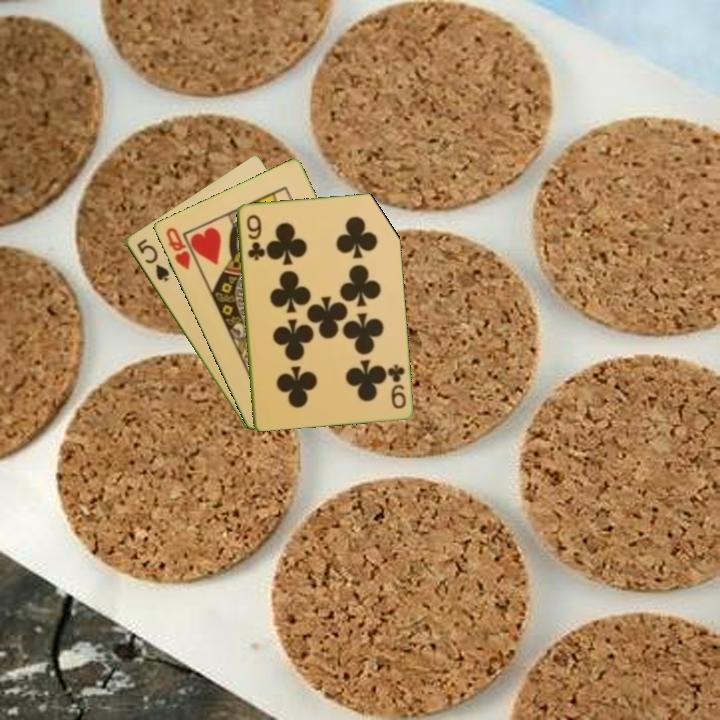5s: (133, 235, 172, 285)
9c: (384, 361, 409, 412), (243, 211, 265, 263)
Qh: (162, 224, 193, 272)
